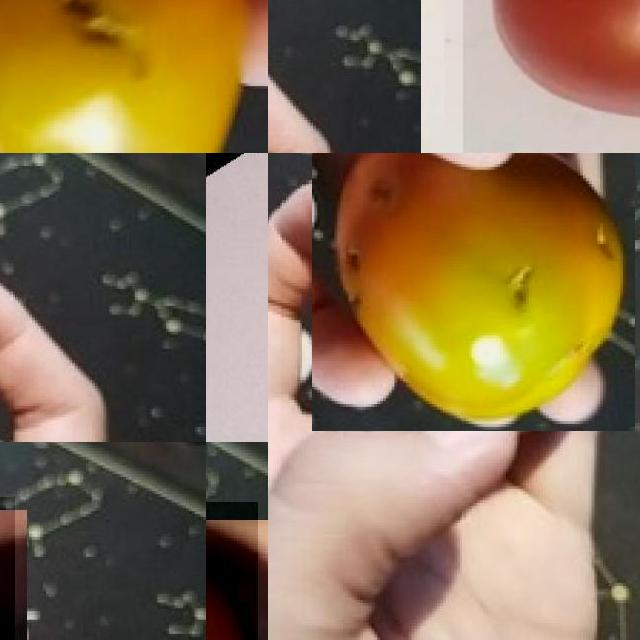Fresh Tomato: (463, 0, 640, 153)
Rotten Tomato: (312, 153, 635, 431), (0, 0, 268, 153)
